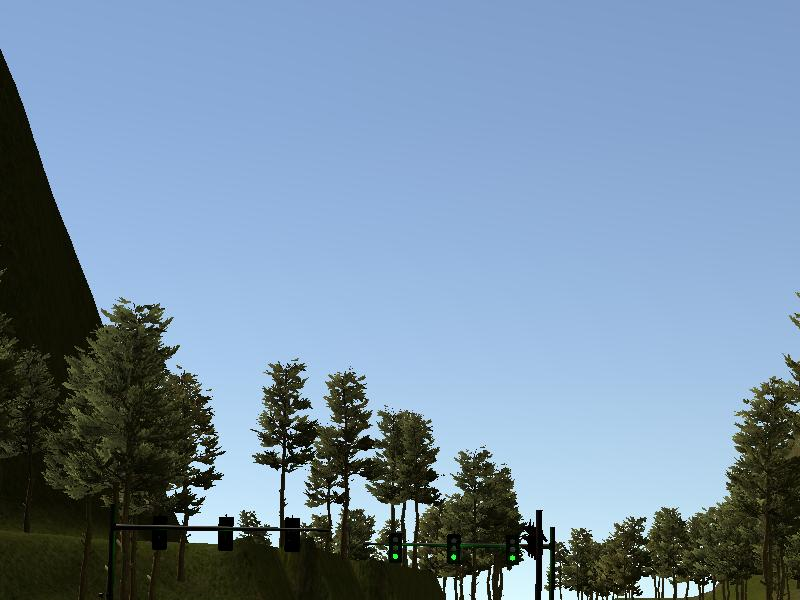Green: (445, 535, 461, 565), (388, 532, 403, 563), (505, 537, 519, 565)
